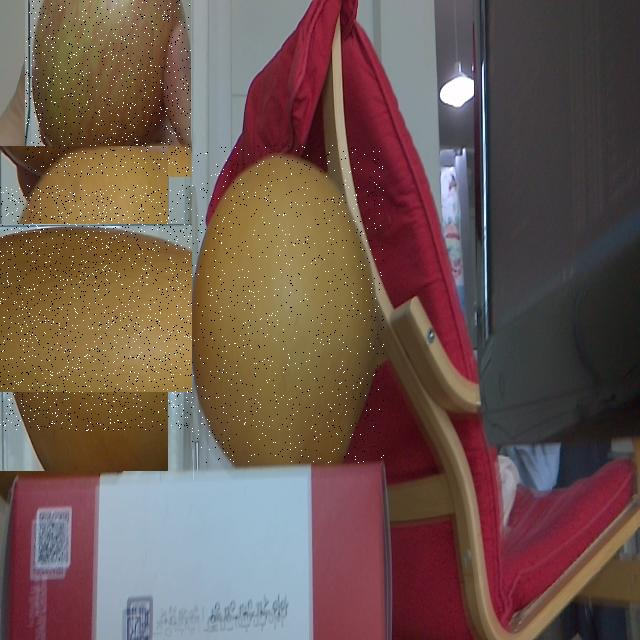apple: (25, 0, 191, 177)
pear: (192, 145, 384, 463), (0, 185, 207, 431)
